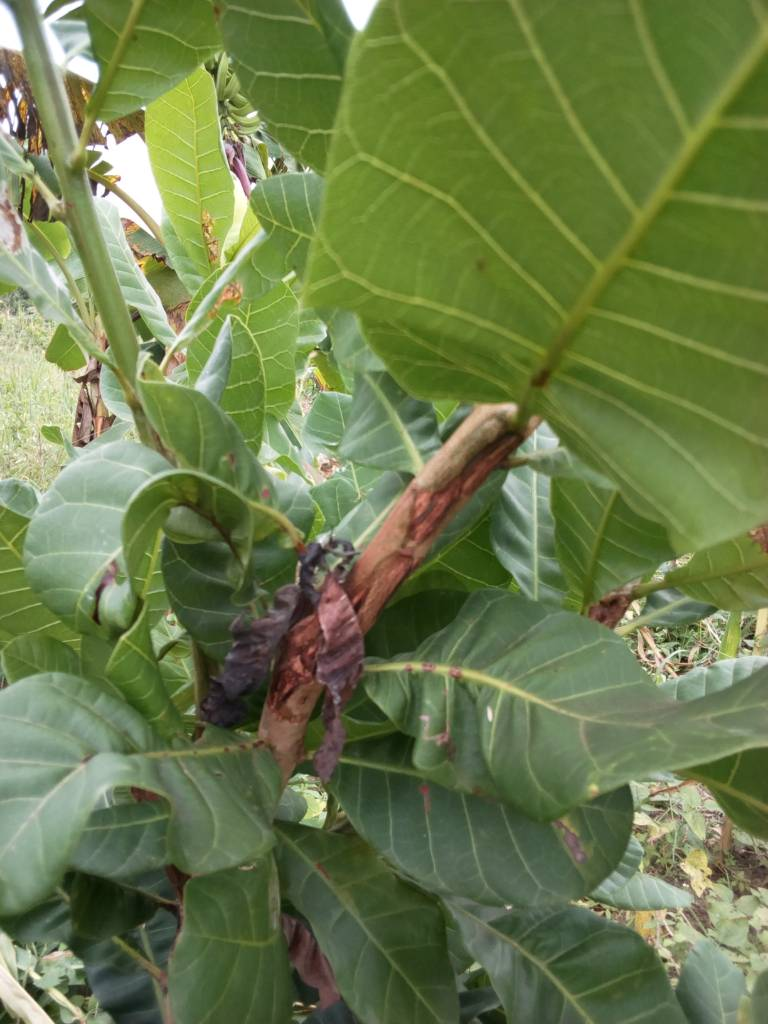Dessèchement des bourgeons: (272, 527, 369, 684)
